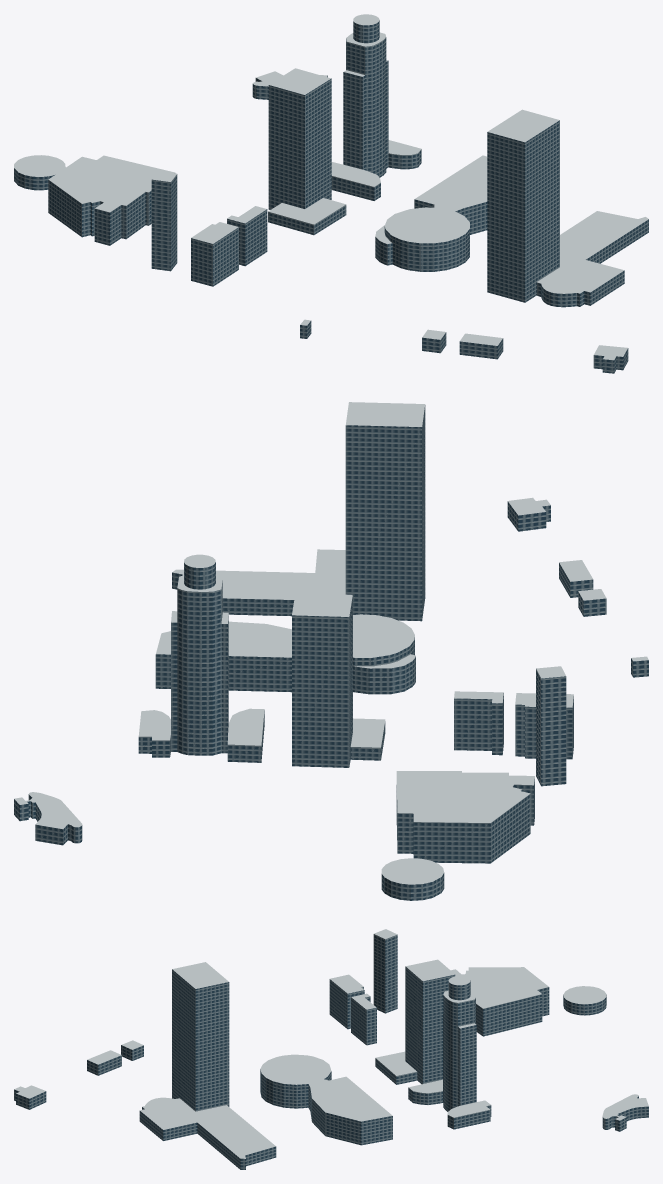
3 renders of one model, top to bottom at view 1: azimuth 30°, elevation 25°; view 2: azimuth 150°, elevation 25°; view 3: azimuth 270°, elevation 25°, orthographic. The views are drawn at different scales.
Size of the model in its own units: 404 by 144 by 620.
2 materials, 1 textured.
